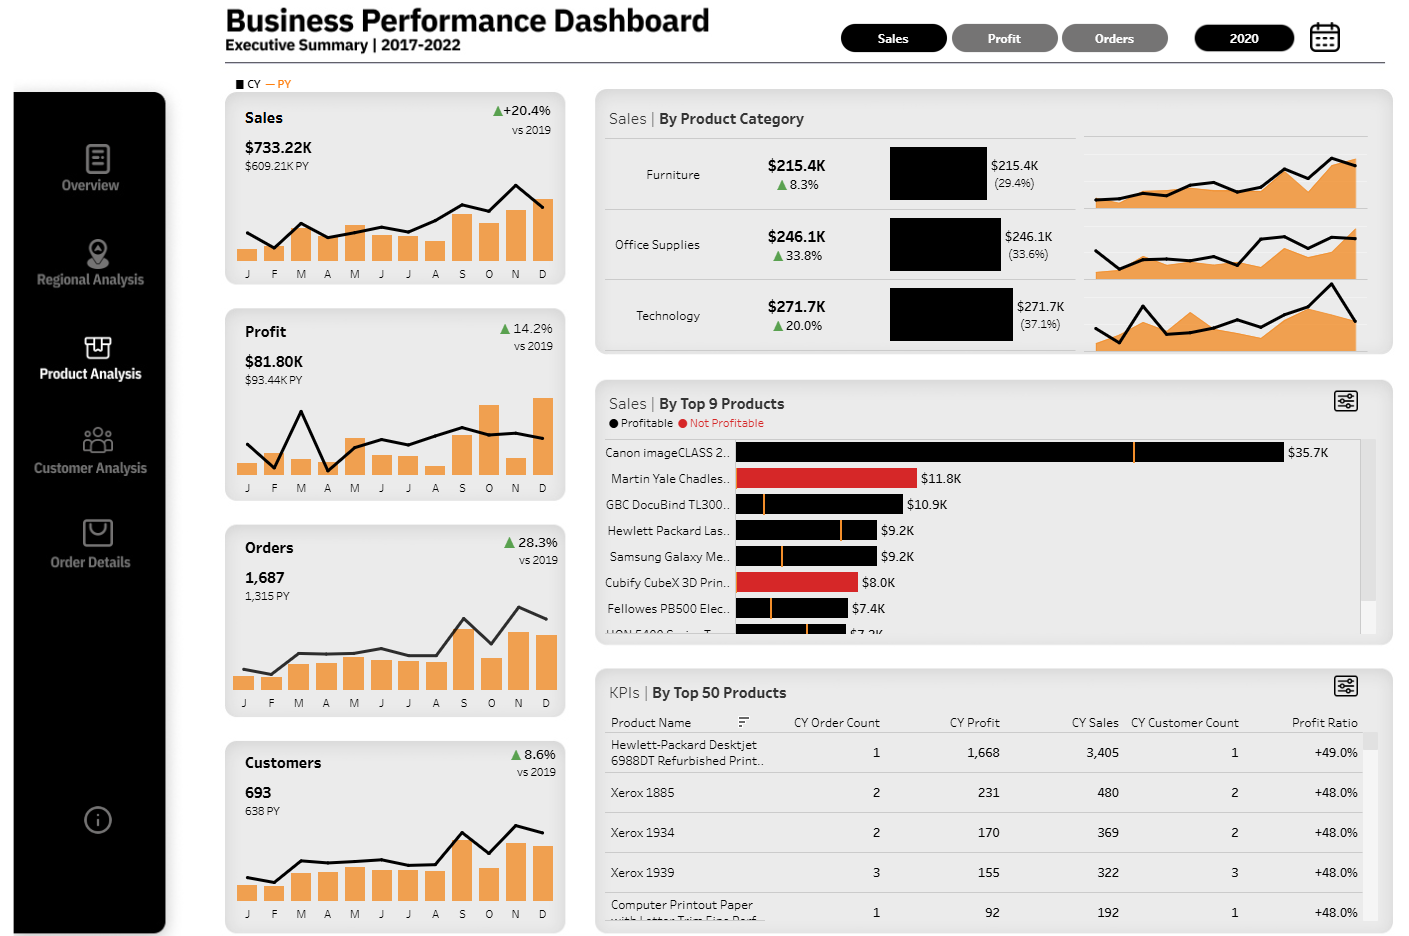

The dashboard page shown, as its layout file describes it:
{"tool":"tableau","page":{"name":"Product Analysis","canvas":[1440,1024],"ordinal":3},"visuals":[{"type":"image","param":"Image/Dashboard BG-2.png","box":[0,0,1440,1024]},{"type":"worksheet","title":"Metric Button","mark":"Shape","cols":["Calculation_340584768144658440","Calculation_340584768144658440","Calculation_340584768144658440"],"box":[827,44,340,62]},{"type":"worksheet","title":"Year Button","mark":"Shape","cols":["Calculation_340584768144658440"],"box":[1167,44,140,62]},{"type":"dashboard-object","box":[1302,59,30,30]},{"type":"parameter","param":"[Parameters].[Parameter 1]","box":[1304,88,118,54]},{"type":"text","box":[226,107,100,26]},{"type":"worksheet","title":"Product Category","mark":"Automatic","rows":["Category"],"cols":["Calculation_665125414463606798","Calculation_1896859912208703498"],"box":[593,134,480,258]},{"type":"worksheet","title":"Sales Card","mark":"Automatic","box":[233,137,155,75]},{"type":"worksheet","title":"YoY Sales % ","mark":"Automatic","box":[438,137,116,57]},{"type":"worksheet","title":"Product Category Trend","mark":"Automatic","rows":["Category","CY Metric Swap  (copy)_1896859912209924107","Calculation_1896859912208703498"],"cols":["Order Date"],"box":[1072,169,292,224]},{"type":"dashboard-object","box":[75,183,30,30]},{"type":"worksheet","title":"Sales Chart","mark":"Automatic","rows":["CY Sales (copy)_1896859912200220675","Calculation_1896859912199979010"],"cols":["Order Date"],"box":[222,213,330,110]},{"type":"dashboard-object","box":[75,276,30,30]},{"type":"worksheet","title":"Profit Card","mark":"Automatic","box":[233,350,155,75]},{"type":"worksheet","title":"YoY Profit %","mark":"Automatic","box":[442,355,116,57]},{"type":"image","param":"Image/box.png","box":[75,369,30,30]},{"type":"worksheet","title":"Top X Products","mark":"Automatic","cols":["Calculation_1896859912208703498","CY Metric Swap  (copy)_1896859912209924107"],"box":[593,418,782,257]},{"type":"parameter","param":"[Parameters].[Parameter 3]","box":[1042,419,265,40]},{"type":"dashboard-object","box":[1326,426,24,24]},{"type":"worksheet","title":"Profit Chart","mark":"Bar","rows":["PY Sales  (copy)_1896859912201674757","CY Sales (copy)_1896859912201572356"],"cols":["Order Date"],"box":[222,427,330,110]},{"type":"dashboard-object","box":[75,462,30,30]},{"type":"dashboard-object","box":[75,555,30,30]},{"type":"worksheet","title":"Orders Card","mark":"Automatic","box":[233,563,155,75]},{"type":"worksheet","title":"YoY Orders %","mark":"Automatic","box":[442,568,116,57]},{"type":"worksheet","title":"Orders Chart","mark":"Bar","rows":["CY Orders (copy)_1896859912203137031","CY Profit (copy)_1896859912202817542"],"cols":["Order Date"],"box":[222,638,330,110]},{"type":"parameter","param":"[Parameters].[Parameter 4]","box":[1042,704,265,40]},{"type":"worksheet","title":"KPIs by Products","mark":"Automatic","rows":["Product Name"],"box":[593,708,784,254]},{"type":"dashboard-object","box":[1326,711,24,24]},{"type":"text","box":[111,768,402,134]},{"type":"worksheet","title":"Customers Card","mark":"Automatic","box":[233,775,155,75]},{"type":"worksheet","title":"YoY Customers %","mark":"Automatic","box":[442,781,116,57]},{"type":"dashboard-object","box":[75,842,30,30]},{"type":"worksheet","title":"Customers Chart","mark":"Bar","rows":["CY Customers (copy)_1896859912206483465","CY Profit (copy)_1896859912206348296"],"cols":["Order Date"],"box":[222,853,330,110]}]}

Visuals, with their boxes on the page's 1440x1024 design canvas (x1, y1, x2, y2). These are canvas units, not pixel positions in the 1409x936 screenshot, which may show the page scaled, cropped or inside an application window:
image: x1=0 y1=0 x2=1440 y2=1024
"Metric Button" worksheet (Shape marks): x1=827 y1=44 x2=1167 y2=106
"Year Button" worksheet (Shape marks): x1=1167 y1=44 x2=1307 y2=106
dashboard-object: x1=1302 y1=59 x2=1332 y2=89
parameter: x1=1304 y1=88 x2=1422 y2=142
text: x1=226 y1=107 x2=326 y2=133
"Product Category" worksheet: x1=593 y1=134 x2=1073 y2=392
"Sales Card" worksheet: x1=233 y1=137 x2=388 y2=212
"YoY Sales % " worksheet: x1=438 y1=137 x2=554 y2=194
"Product Category Trend" worksheet: x1=1072 y1=169 x2=1364 y2=393
dashboard-object: x1=75 y1=183 x2=105 y2=213
"Sales Chart" worksheet: x1=222 y1=213 x2=552 y2=323
dashboard-object: x1=75 y1=276 x2=105 y2=306
"Profit Card" worksheet: x1=233 y1=350 x2=388 y2=425
"YoY Profit %" worksheet: x1=442 y1=355 x2=558 y2=412
image: x1=75 y1=369 x2=105 y2=399
"Top X Products" worksheet: x1=593 y1=418 x2=1375 y2=675
parameter: x1=1042 y1=419 x2=1307 y2=459
dashboard-object: x1=1326 y1=426 x2=1350 y2=450
"Profit Chart" worksheet (Bar marks): x1=222 y1=427 x2=552 y2=537
dashboard-object: x1=75 y1=462 x2=105 y2=492
dashboard-object: x1=75 y1=555 x2=105 y2=585
"Orders Card" worksheet: x1=233 y1=563 x2=388 y2=638
"YoY Orders %" worksheet: x1=442 y1=568 x2=558 y2=625
"Orders Chart" worksheet (Bar marks): x1=222 y1=638 x2=552 y2=748
parameter: x1=1042 y1=704 x2=1307 y2=744
"KPIs by Products" worksheet: x1=593 y1=708 x2=1377 y2=962
dashboard-object: x1=1326 y1=711 x2=1350 y2=735
text: x1=111 y1=768 x2=513 y2=902
"Customers Card" worksheet: x1=233 y1=775 x2=388 y2=850
"YoY Customers %" worksheet: x1=442 y1=781 x2=558 y2=838
dashboard-object: x1=75 y1=842 x2=105 y2=872
"Customers Chart" worksheet (Bar marks): x1=222 y1=853 x2=552 y2=963
